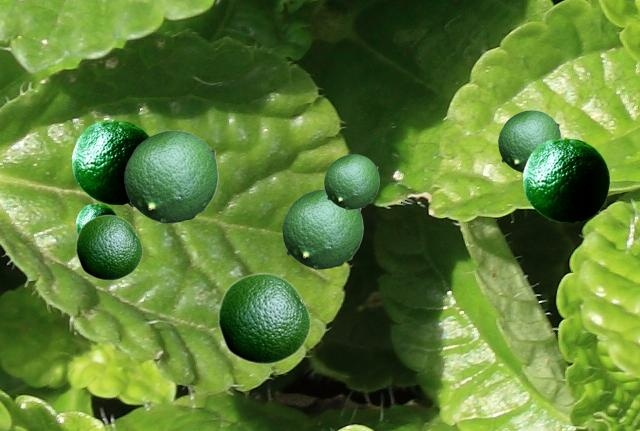calamansi: (217, 272, 310, 364), (124, 130, 217, 222), (523, 137, 608, 221), (72, 119, 149, 203), (282, 189, 362, 268), (75, 214, 142, 280), (498, 110, 560, 172), (324, 154, 378, 208), (76, 203, 116, 233)
